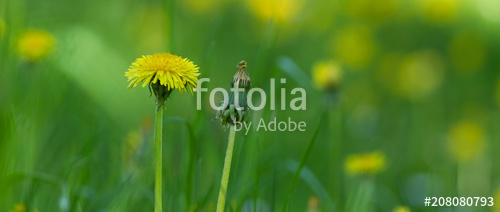dandelion: (132, 46, 196, 100)
